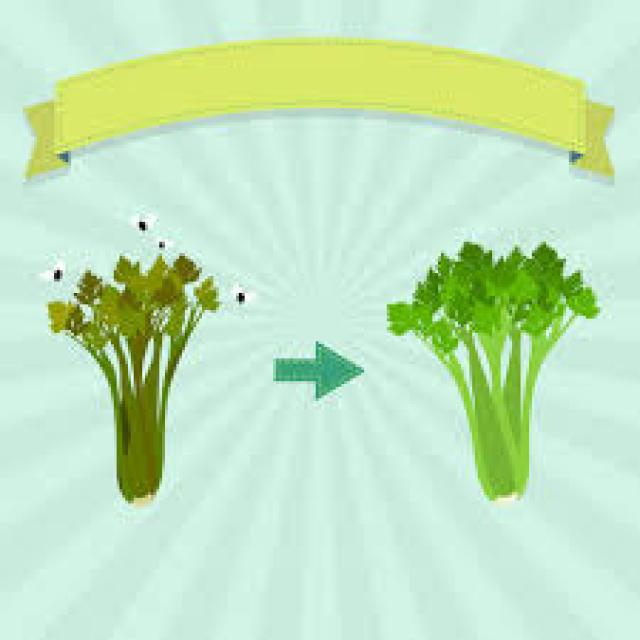biodegradable: (384, 233, 597, 495), (43, 245, 216, 501), (384, 236, 600, 350), (46, 248, 216, 336)
